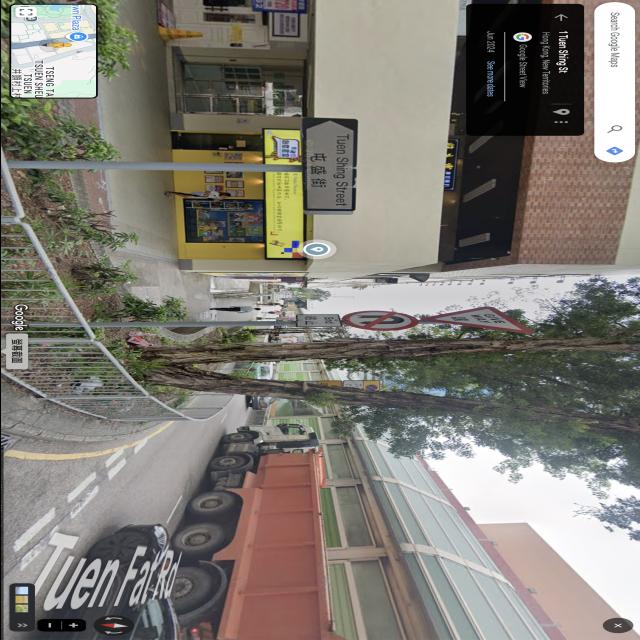Order-Sign: (348, 310, 411, 330), (296, 314, 338, 326), (345, 382, 379, 392)
Street-Direction-Sign: (302, 119, 358, 211)
